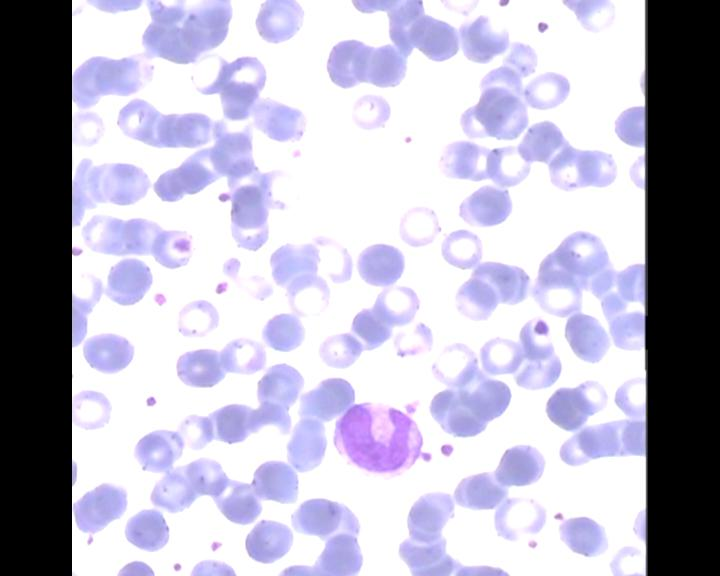mono: (333, 398, 427, 478)
